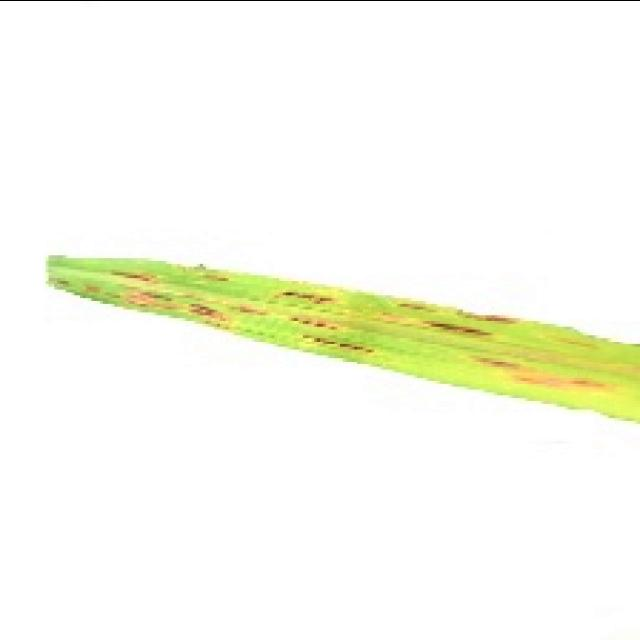Unhealthy: (466, 350, 620, 394), (300, 332, 378, 354), (419, 319, 494, 336), (272, 290, 336, 308), (185, 302, 228, 322), (283, 315, 339, 330), (107, 267, 153, 283), (456, 313, 519, 324), (230, 302, 271, 317), (136, 290, 175, 301), (397, 303, 439, 313), (199, 271, 232, 283)
